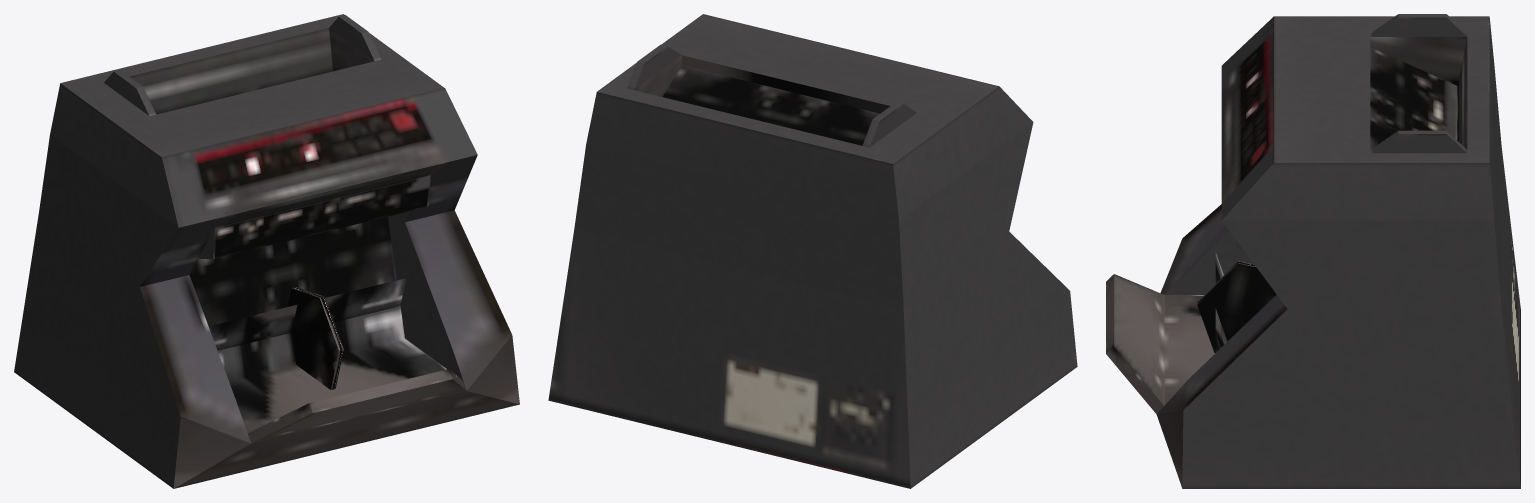
The model's file is MoneyCounter01.obj.
3 views of the same model, side by side, from view 1: azimuth 30°, elevation 25°; view 2: azimuth 150°, elevation 25°; view 3: azimuth 270°, elevation 25° (orthographic). The views are drawn at different scales.
Visible parts, largest first — view 1: MoneyCounter01; view 2: MoneyCounter01; view 3: MoneyCounter01.
Part boxes in pixels (box(x1,y1,x2,y2)): MoneyCounter01: box(14, 14, 519, 488); MoneyCounter01: box(548, 14, 1077, 488); MoneyCounter01: box(1106, 14, 1520, 488).
Size of the model in its own units: 0.6153 by 0.527 by 0.602.
